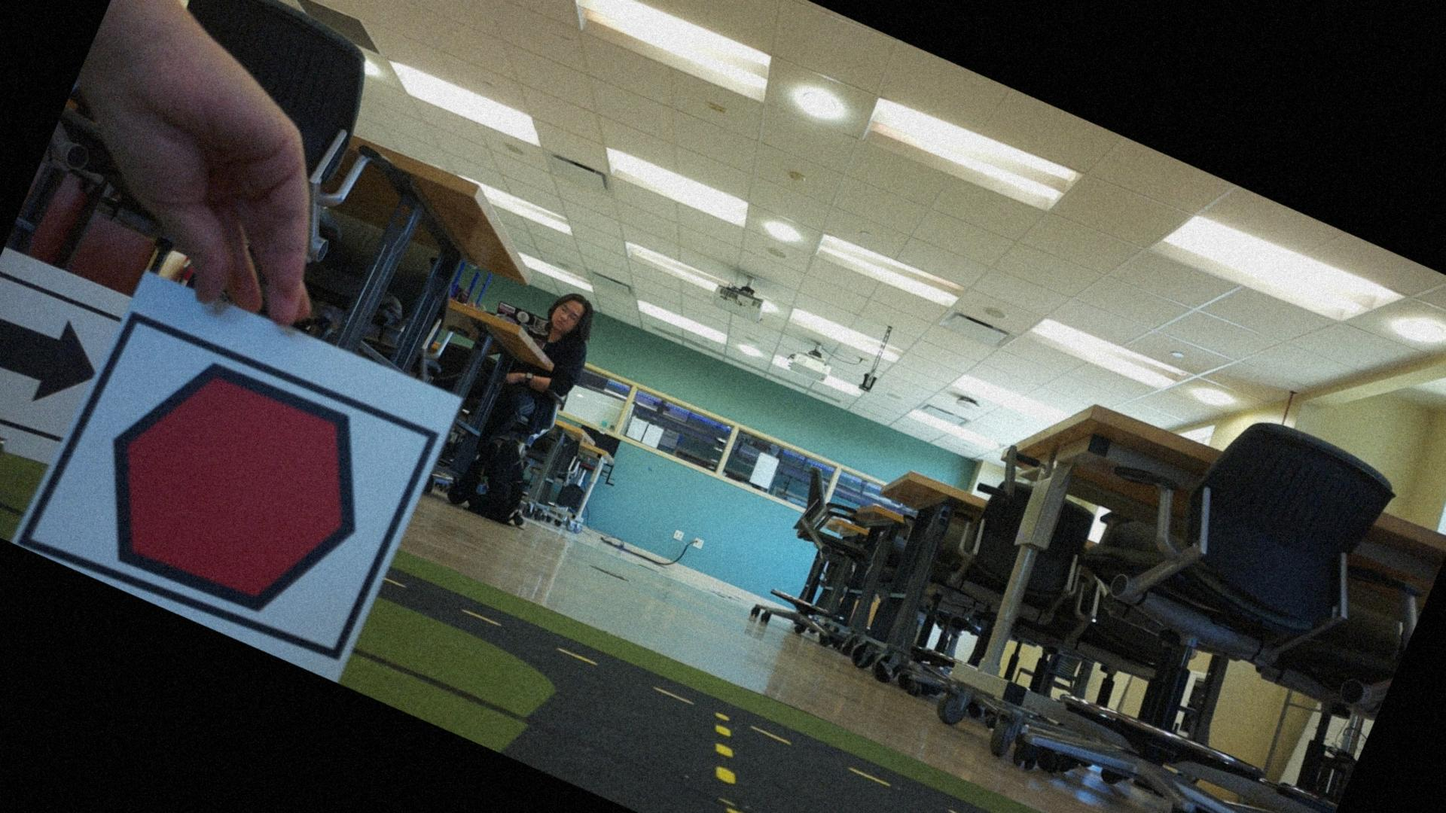stop: (53, 318, 419, 662)
turnright: (0, 275, 114, 441)
yellowline: (674, 723, 801, 812)
